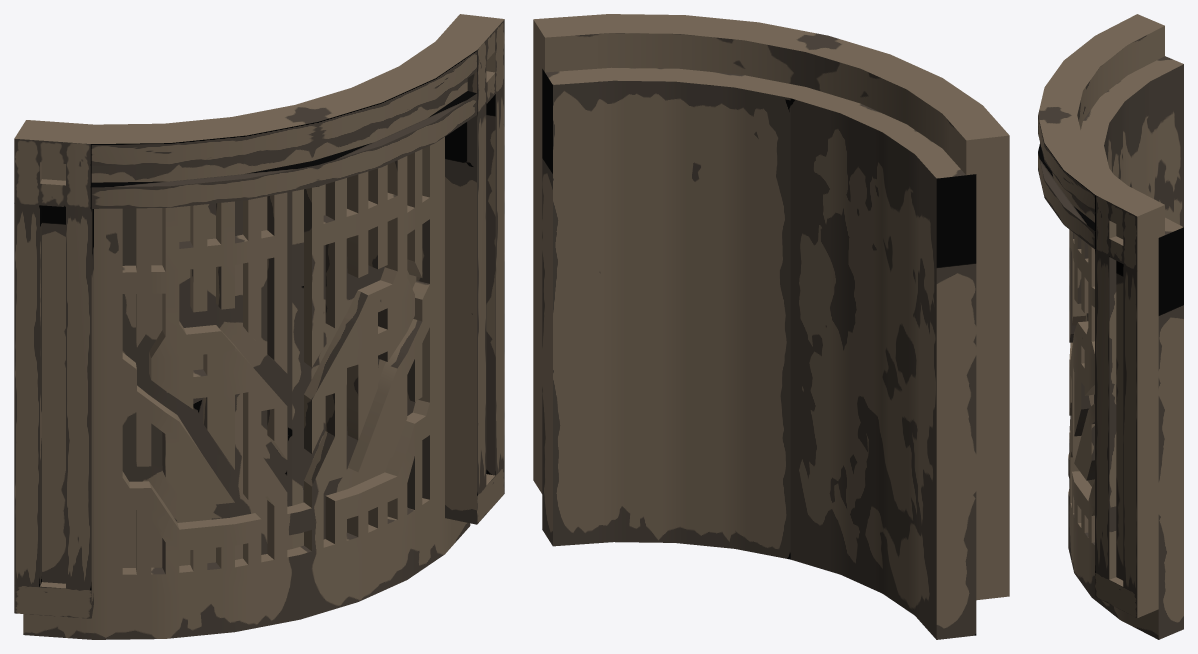
The model's file is concave_door (1).fbx.
The picture shows the model from 3 angles, left to right: view 1: azimuth 30°, elevation 25°; view 2: azimuth 150°, elevation 25°; view 3: azimuth 270°, elevation 25°; orthographic projection. The views are drawn at different scales.
Parts seen in each view (by area): view 1: down_door_frame.001, down_door.011, down_door.010; view 2: down_door.010, down_door.011, down_door_frame.001; view 3: down_door_frame.001, down_door.010, down_door.011.
Boxes of the visible parts, x1=… form: down_door_frame.001: x1=14, y1=14, x2=504, y2=618; down_door.011: x1=23, y1=191, x2=300, y2=639; down_door.010: x1=292, y1=137, x2=470, y2=619; down_door.010: x1=542, y1=67, x2=805, y2=559; down_door.011: x1=790, y1=87, x2=976, y2=639; down_door_frame.001: x1=533, y1=14, x2=1009, y2=600; down_door_frame.001: x1=1038, y1=14, x2=1164, y2=618; down_door.010: x1=1068, y1=145, x2=1183, y2=639; down_door.011: x1=1068, y1=56, x2=1183, y2=492.
Bounding box in the file's own units: 499 × 497 × 152.
